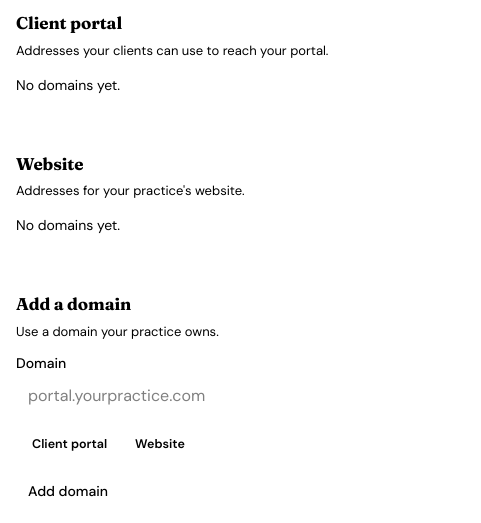
Test case: DomainsPage › shows the deployment's words when a domain is past the practice's allowance
The width and height of the screenshot is (481, 523).
In the field labelled "Domain": (240, 396) left=16, top=378, right=464, bottom=414, type "another.example"
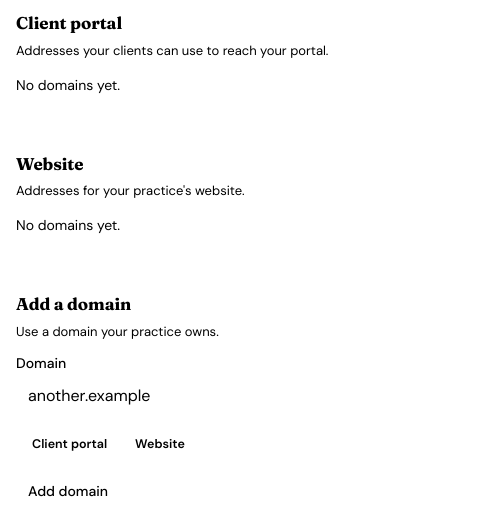
Click the button "Add domain": click(68, 491) left=16, top=475, right=120, bottom=507
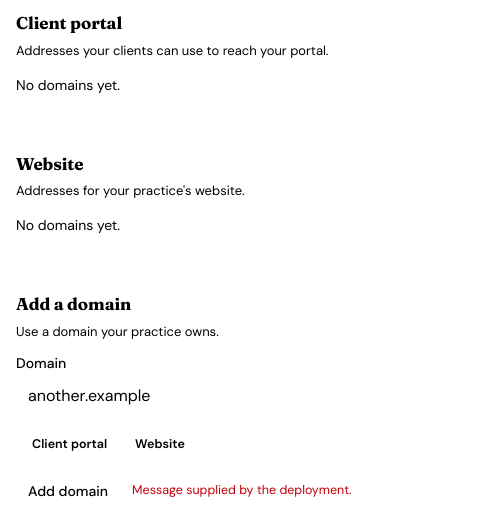
Expected: the message reads "Message supplied by the deployment.", left=132, top=482, right=352, bottom=498
